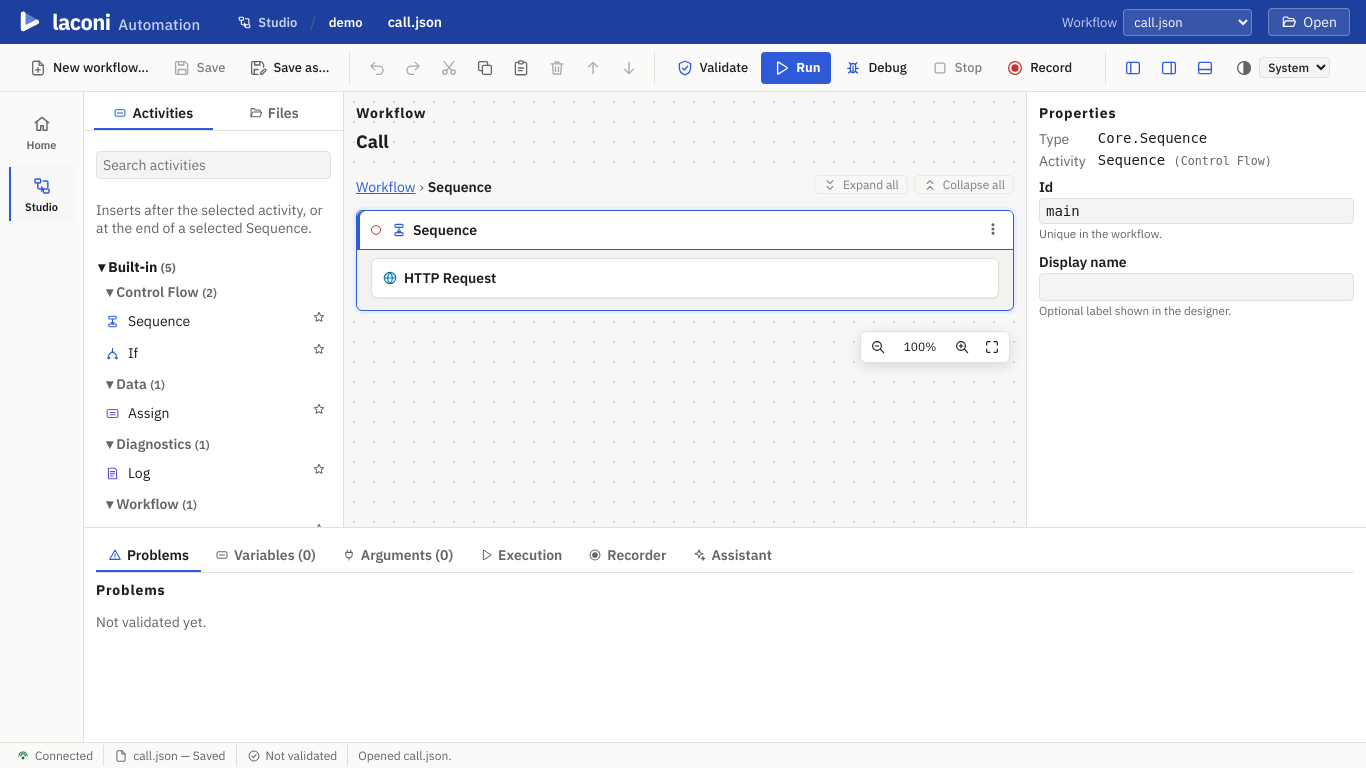
Scenario: Catalog 1.2 metadata › shows value types, the default as a placeholder, and marks a secret with how to give it
Click the element with class "node" showing "HTTP Request": [685, 278] box [371, 258, 999, 298]
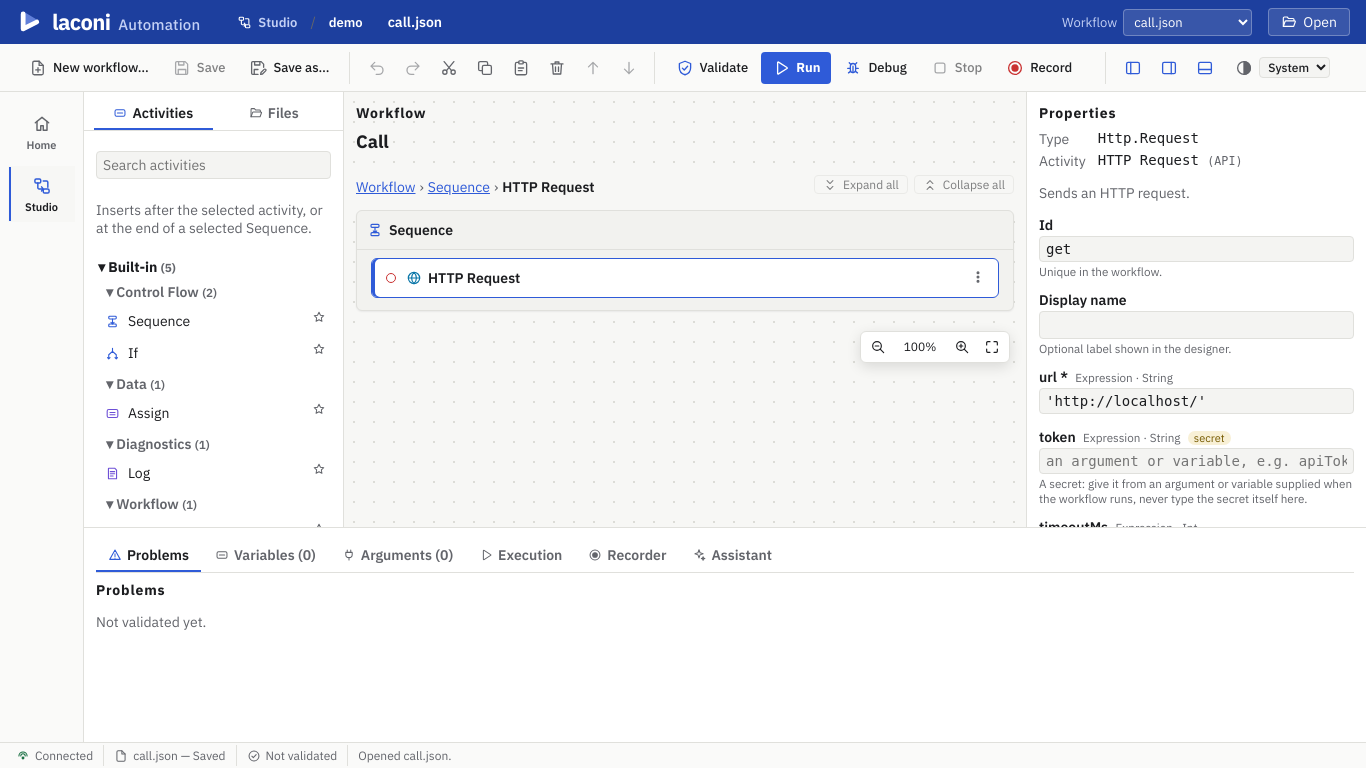
Expected: the text with class "secret" reads "secret", [1194, 431, 1225, 445]
Expected: the text "Expression · String" next to "token" is shown, [1083, 430, 1181, 445]
Expected: the element "token" shows "never type the secret itself here", [1039, 476, 1352, 506]
